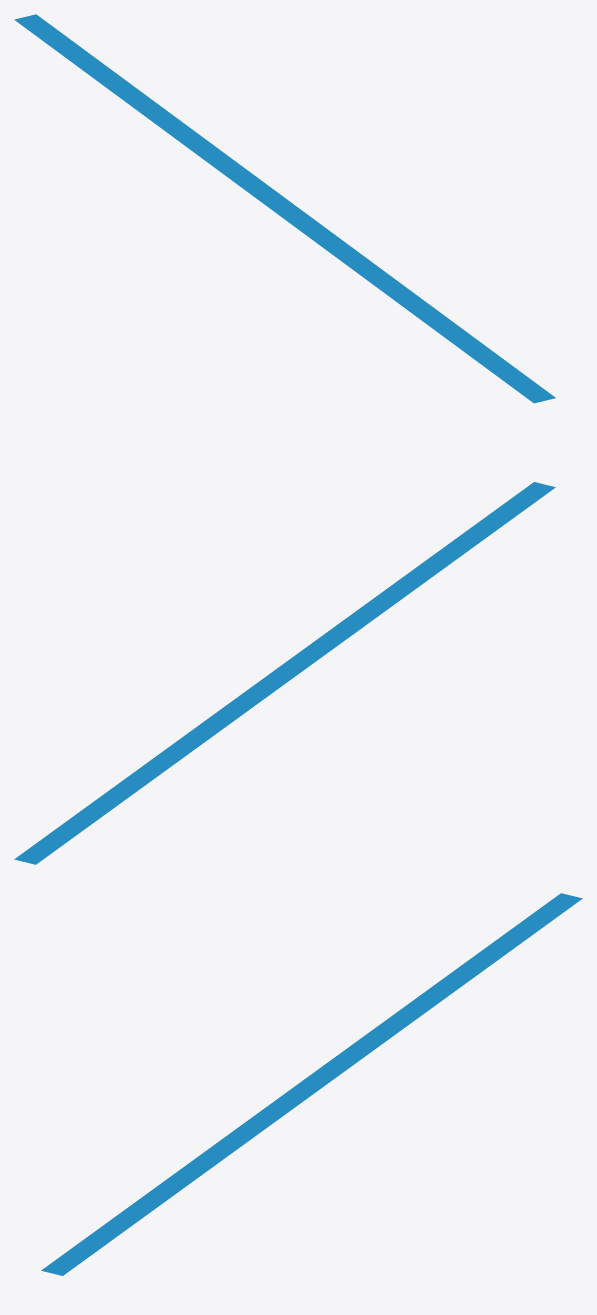
File: guide.glb
3 views of the same model, one above another, from view 1: azimuth 30°, elevation 25°; view 2: azimuth 150°, elevation 25°; view 3: azimuth 330°, elevation 25° (orthographic).
Visible parts, largest first — view 1: static; view 2: static; view 3: static.
Boxes of the visible parts, left/top/right/bottom form: static: left=14, top=14, right=555, bottom=403; static: left=14, top=482, right=555, bottom=864; static: left=41, top=893, right=582, bottom=1275.
Size of the model in its own units: 1 by 0 by 14.
